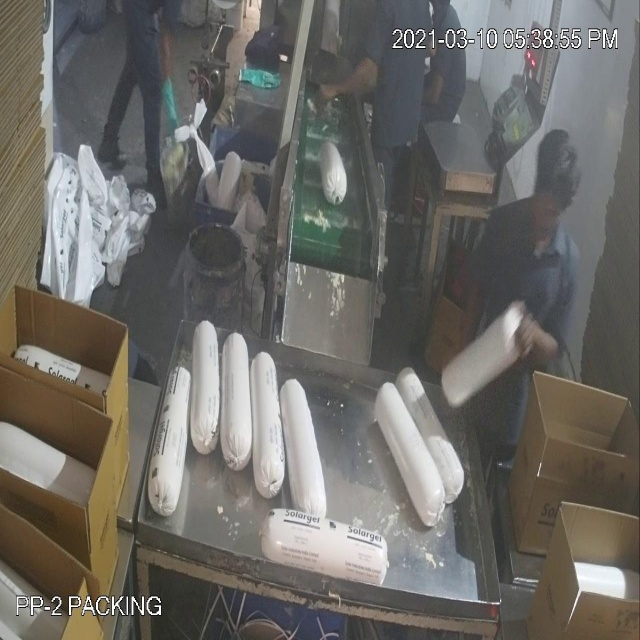Sin_guantes: (311, 52, 383, 121), (514, 295, 564, 387)
